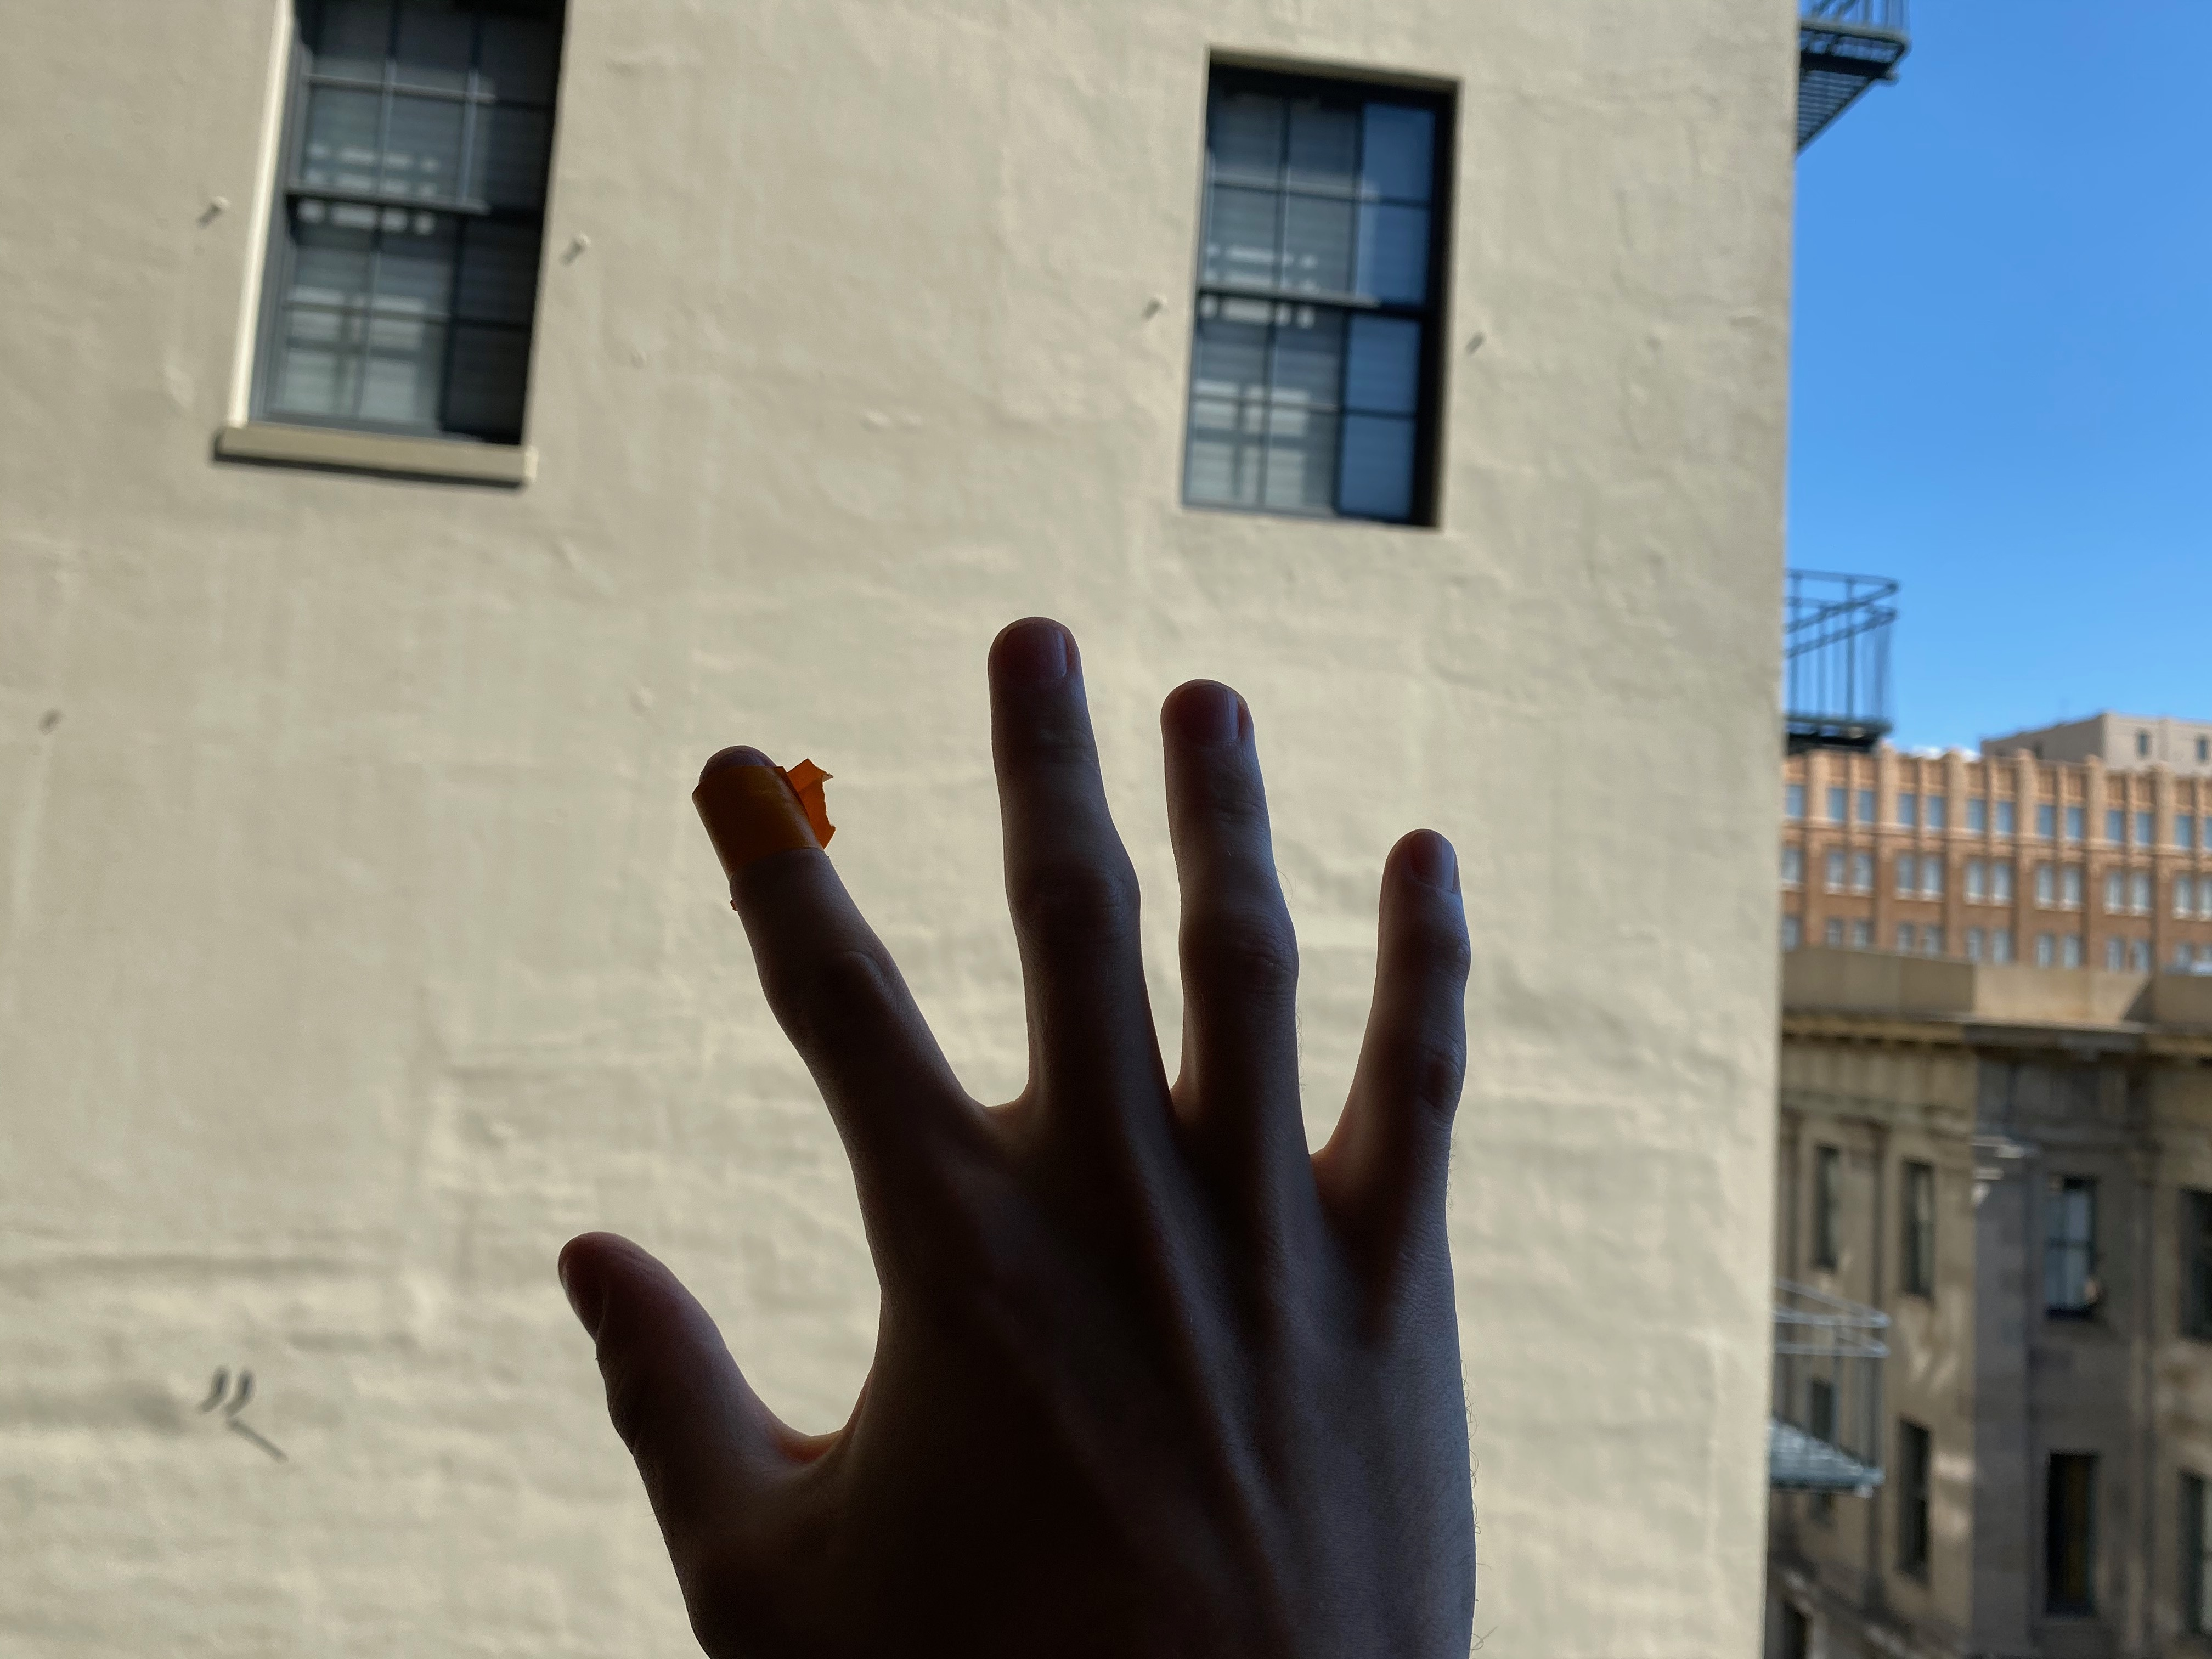fingertip: (683, 737, 845, 915)
